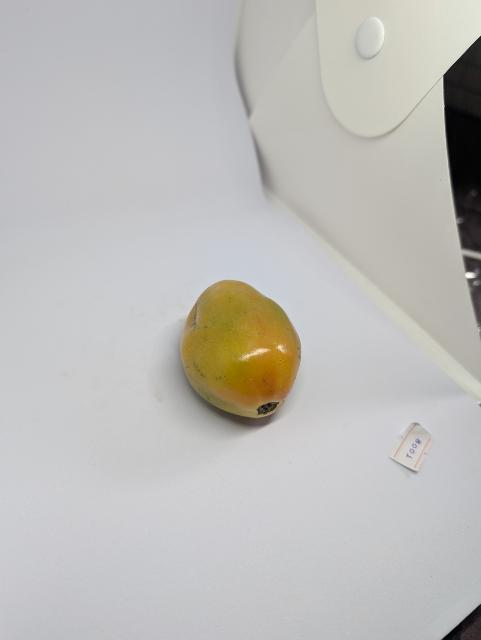breaker: (181, 280, 301, 418)
